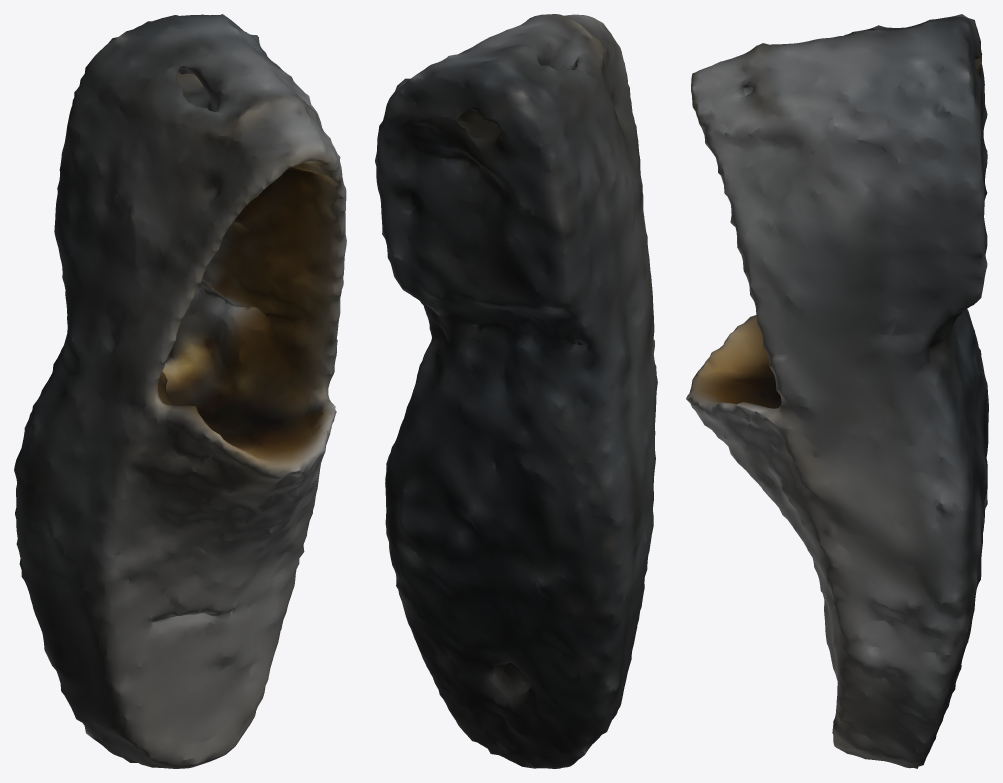
Rendered from leather.glb.
The picture shows the model from 3 angles, left to right: view 1: azimuth 30°, elevation 25°; view 2: azimuth 150°, elevation 25°; view 3: azimuth 270°, elevation 25°; orthographic projection. The views are drawn at different scales.
Bounding box in the file's own units: 0.3599 × 0.9929 × 0.3657.
